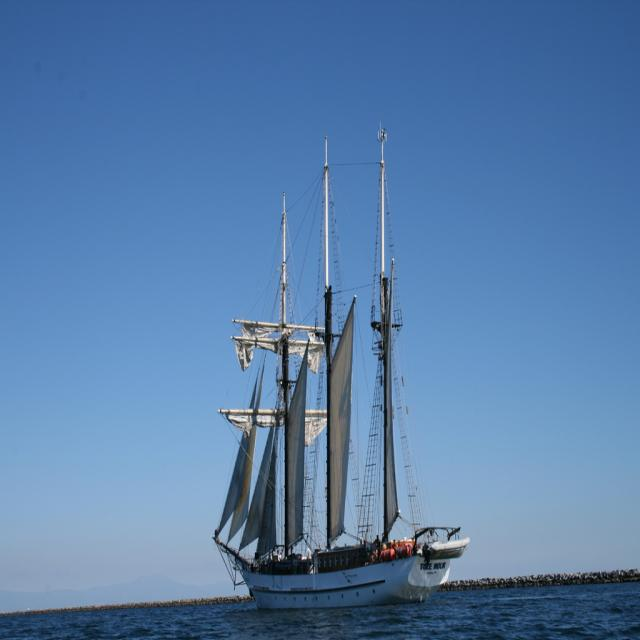Boat: (202, 122, 472, 636)
